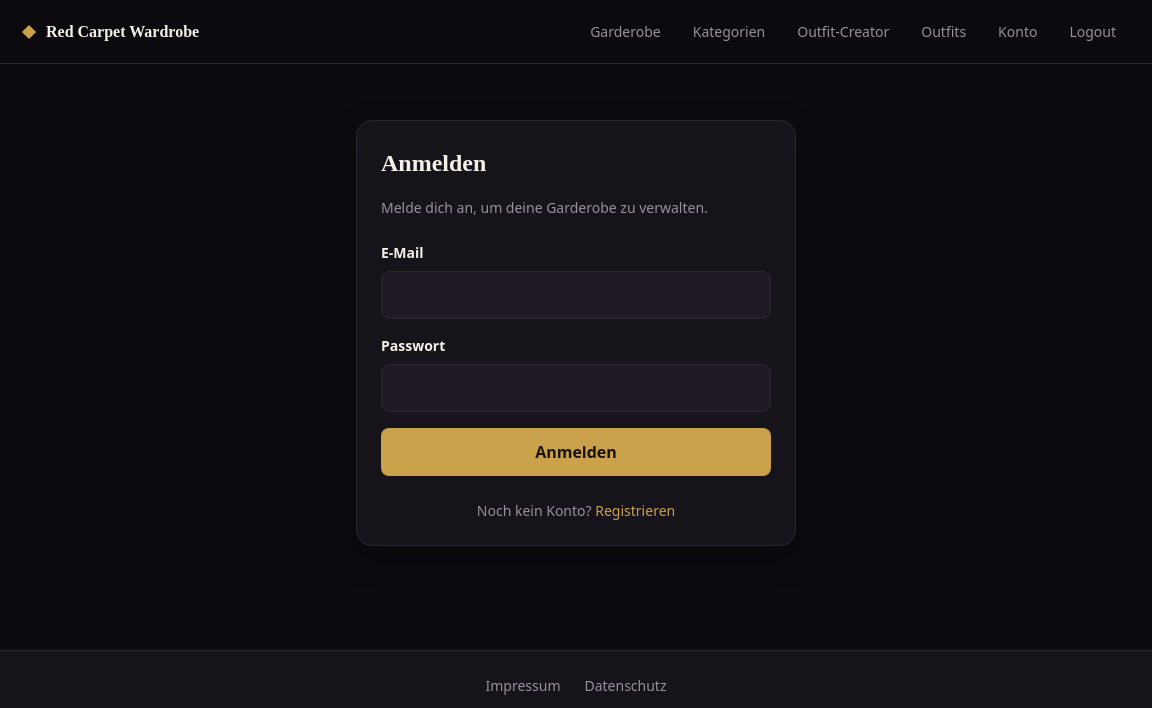
Erreichbarkeit über den Footer › erreicht das Impressum über den Footer
What coordinates should you click on to do the following:
click the link "Impressum"
I would click on:
 (523, 686)
Its box is [486,675,560,696].
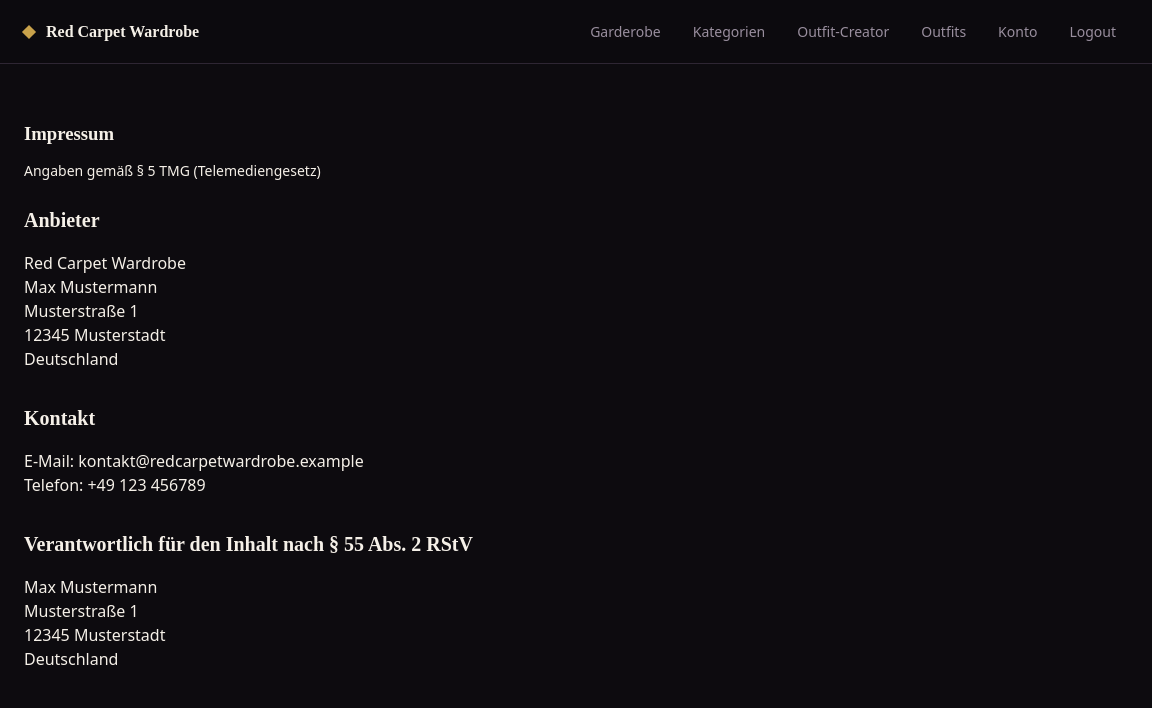
Expected: the heading "Impressum" is shown, [24,123,114,144]
